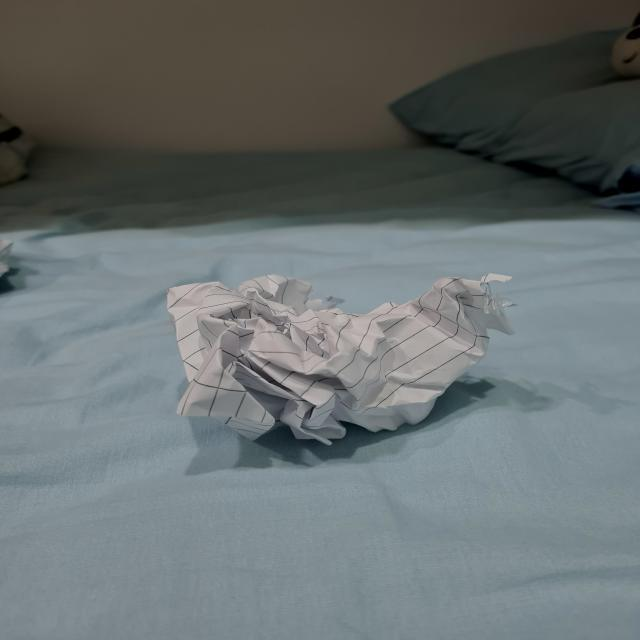Paper: (143, 254, 529, 468)
